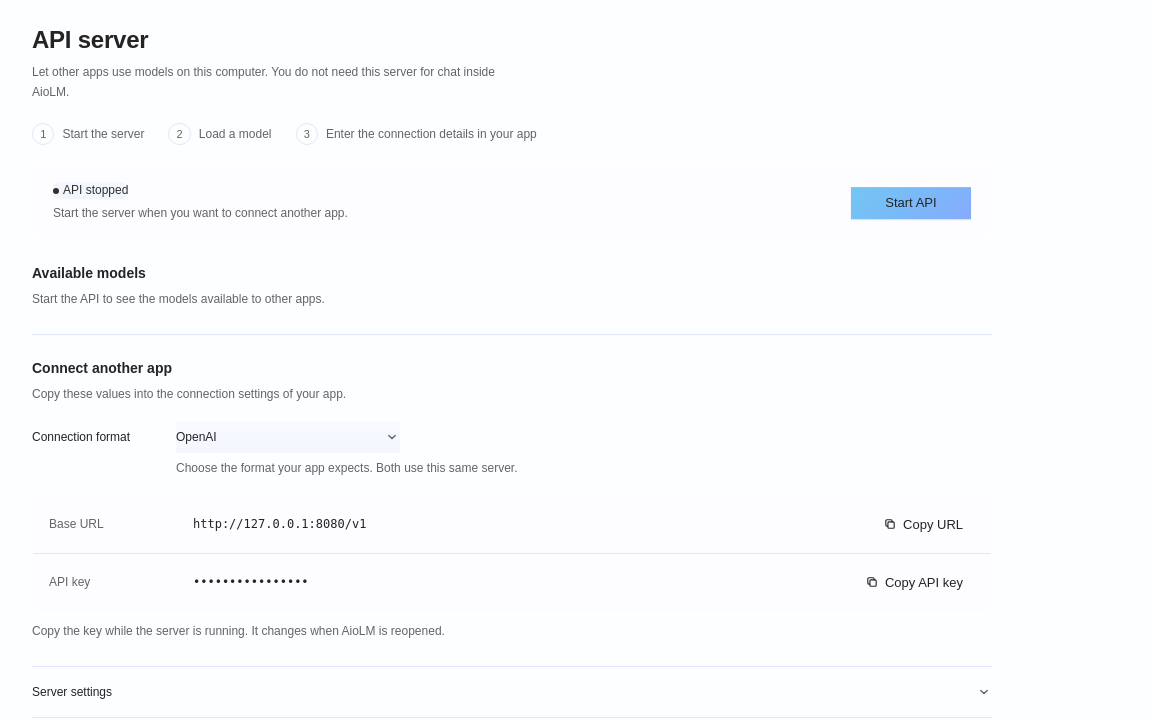
API server lifecycle › starts the API while no model is loaded and shows the waiting state
Step 1. Click the button named "Start API" in the row of "API stopped" → (911, 203), box [851,187,971,219]
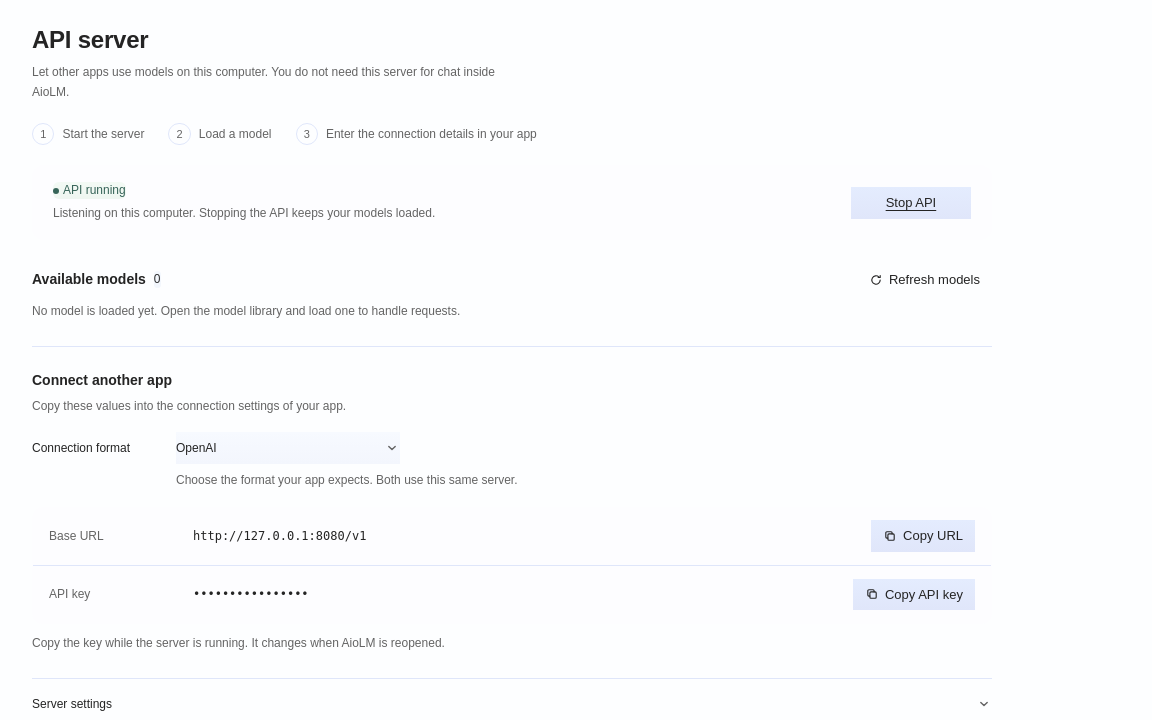
Expected: the text "http://127.0.0.1:8080/v1" is shown, [193,527,366,545]
Expected: the text "API running" is shown, [53,182,126,199]
Expected: the text "No model is loaded yet" is shown, [32,304,460,318]
